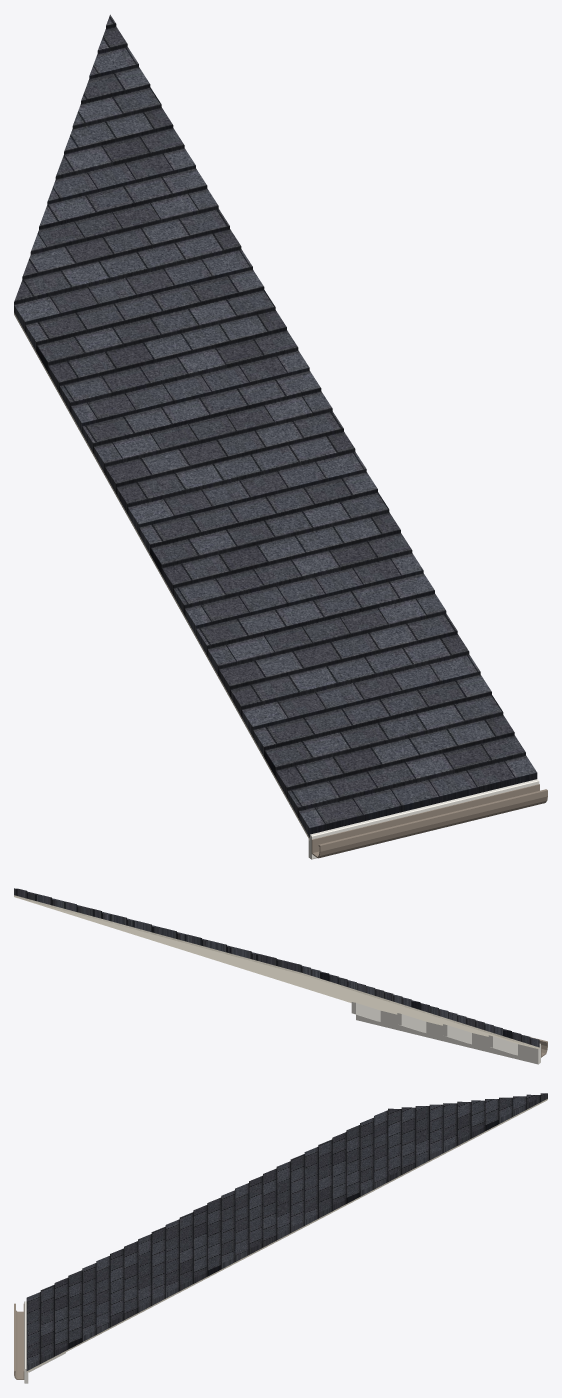
Rendered from roof_main_2_l.glb.
3 views of the same model, one above another, from view 1: azimuth 30°, elevation 25°; view 2: azimuth 150°, elevation 25°; view 3: azimuth 270°, elevation 25° (orthographic). The views are drawn at different scales.
Parts seen in each view (by area): view 1: roof_main_2_l_shingles, roof_main_2_l_gutter, roof_main_2_l_trim, roof_main_2_l_plaster; view 2: roof_main_2_l_plaster, roof_main_2_l_shingles, roof_main_2_l_trim; view 3: roof_main_2_l_shingles, roof_main_2_l_plaster, roof_main_2_l_gutter.
Boxes of the visible parts, x1,y1,x2,y2 form: roof_main_2_l_shingles: [14, 14, 537, 837]; roof_main_2_l_gutter: [311, 784, 547, 858]; roof_main_2_l_trim: [308, 779, 539, 859]; roof_main_2_l_plaster: [14, 312, 309, 840]; roof_main_2_l_plaster: [14, 895, 539, 1049]; roof_main_2_l_shingles: [14, 888, 539, 1047]; roof_main_2_l_trim: [351, 1002, 540, 1064]; roof_main_2_l_shingles: [26, 1093, 547, 1370]; roof_main_2_l_plaster: [26, 1099, 547, 1372]; roof_main_2_l_gutter: [14, 1303, 24, 1379].
Size of the model in its own units: 2 by 3.99 by 6.66.
Materials: 4 (2 with a texture image).
